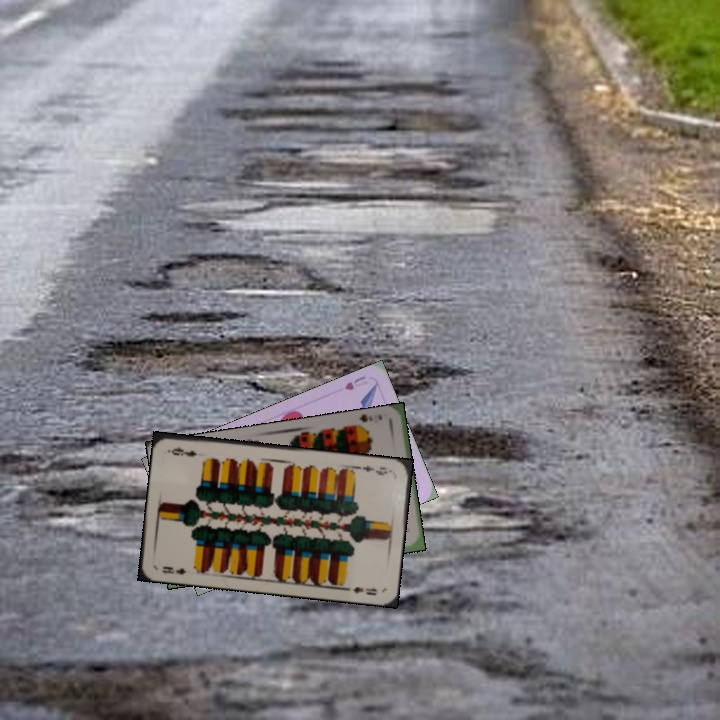E9: (355, 461, 394, 478), (158, 562, 189, 577)
HU: (340, 372, 370, 393)
S9: (349, 411, 385, 433)
